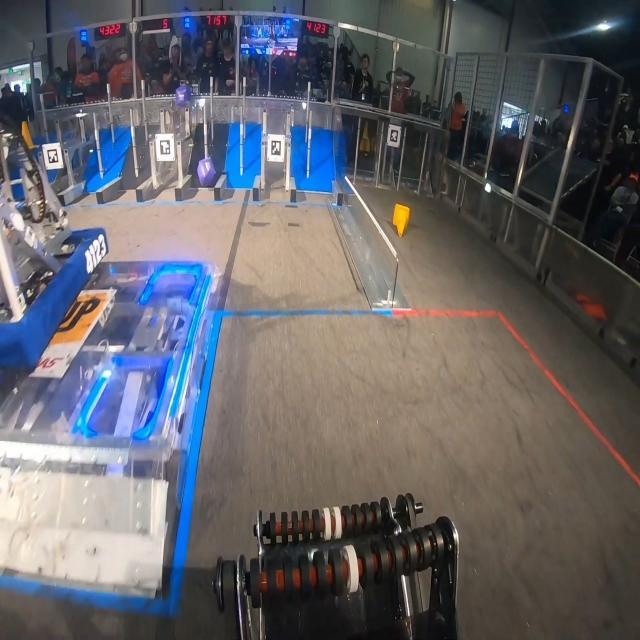robot: (0, 122, 110, 368)
